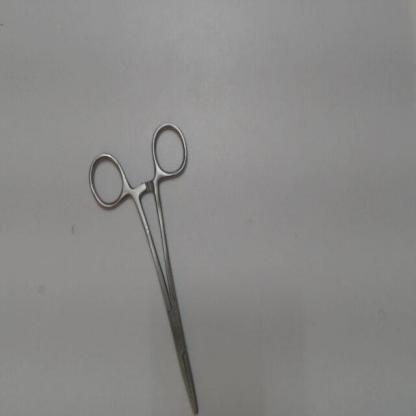Mayo Needle Holder: (82, 117, 204, 415)
